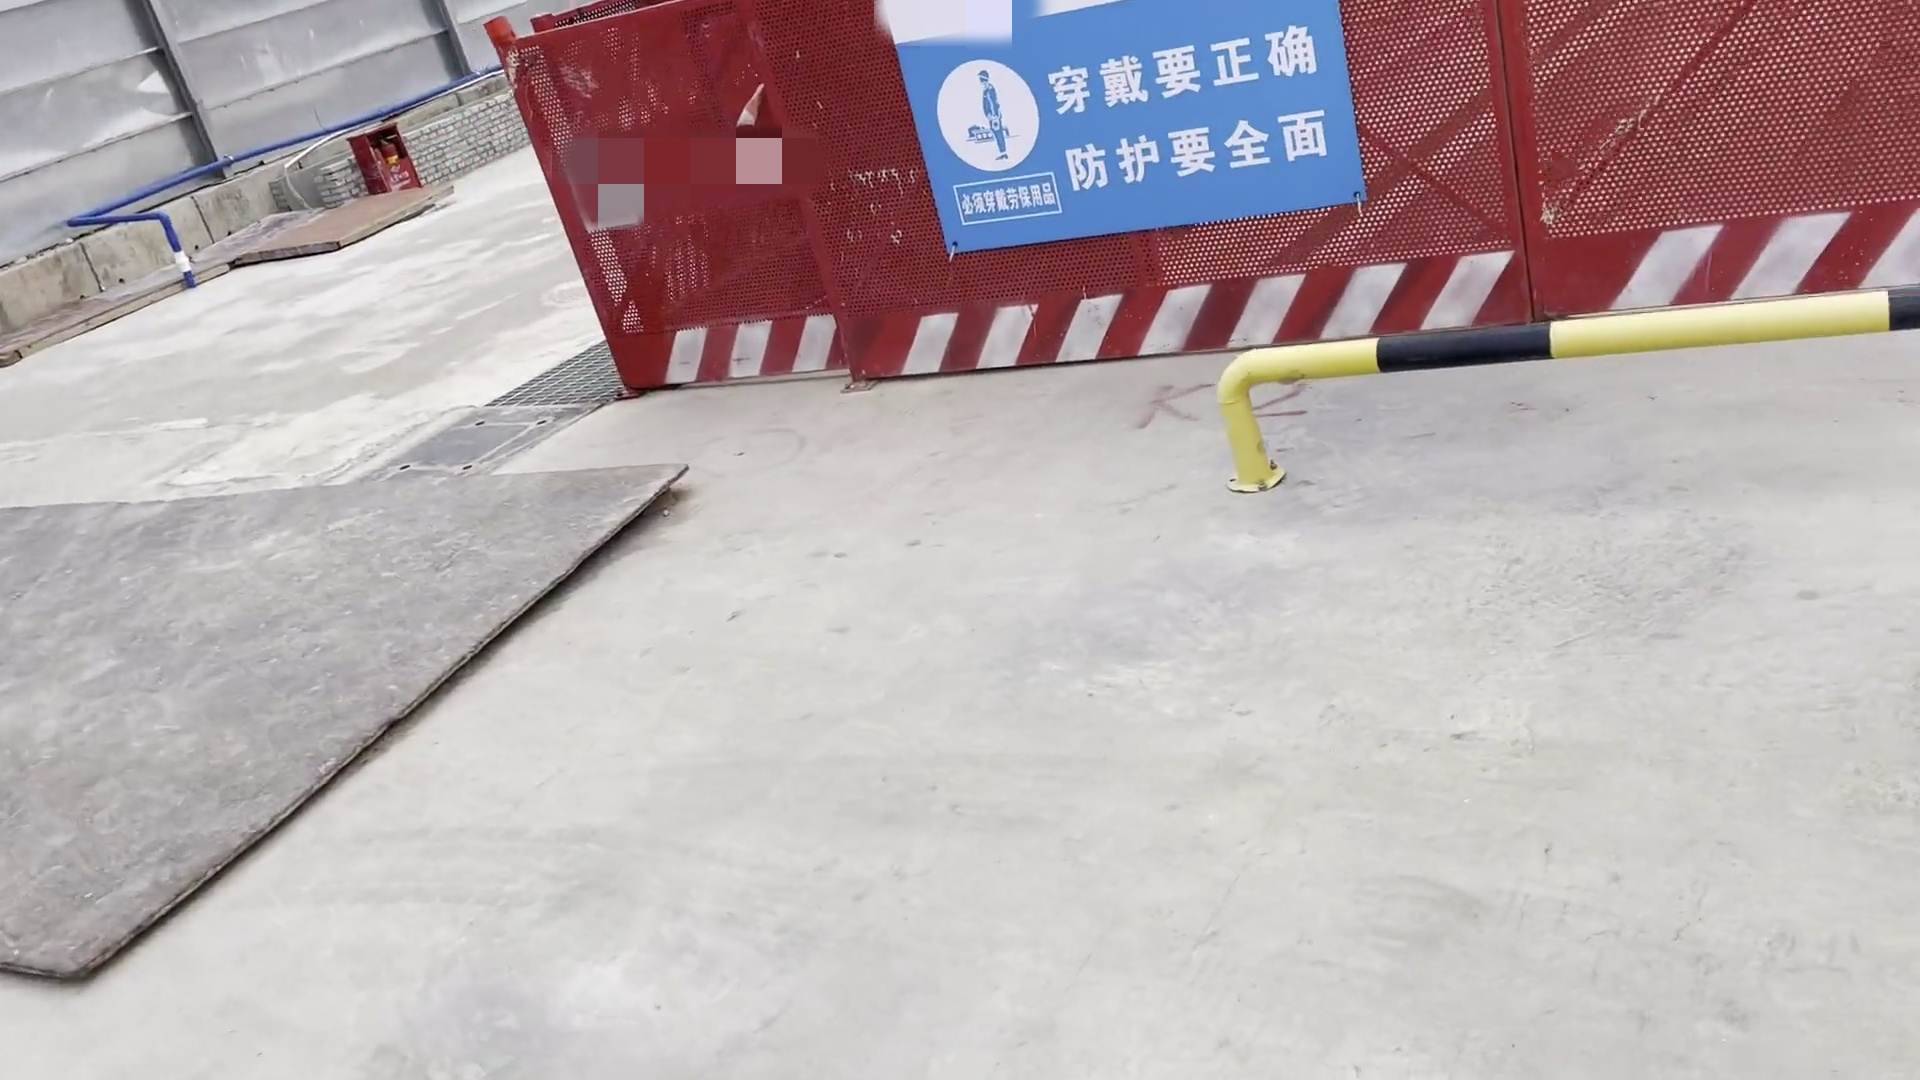brick: (394, 84, 533, 196), (264, 157, 377, 237)
fence: (477, 4, 1920, 409)
slogan: (880, 1, 1385, 262)
